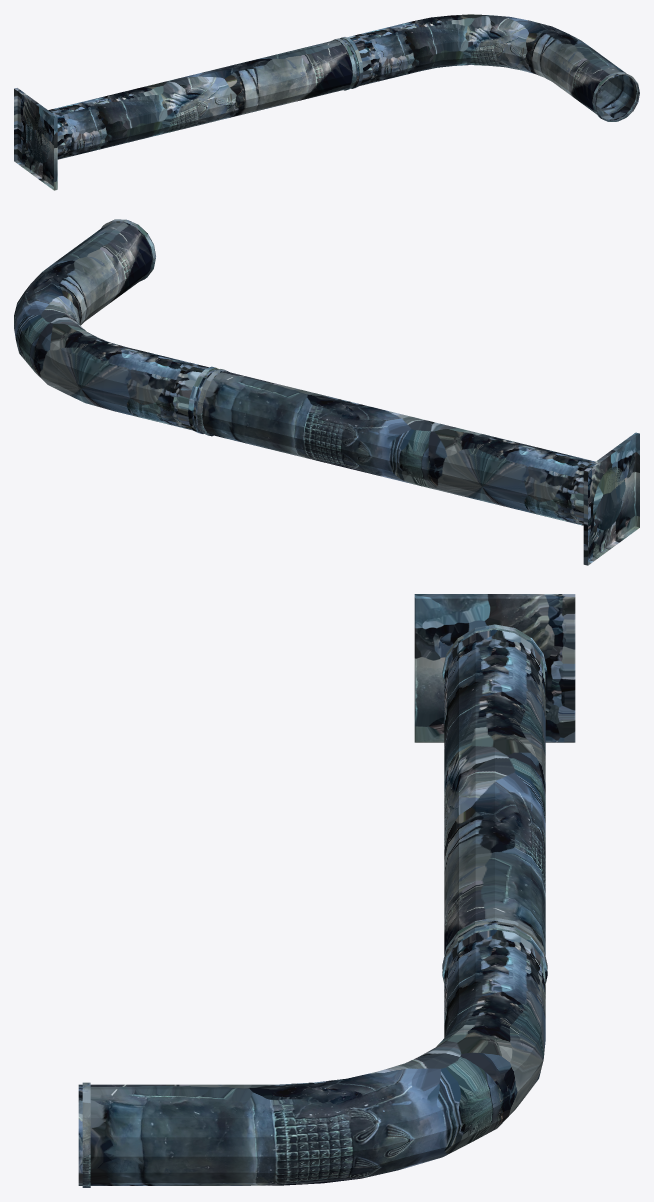
The model's file is futuristic_room_7.obj.
The picture shows the model from 3 angles, top to bottom: view 1: azimuth 30°, elevation 25°; view 2: azimuth 150°, elevation 25°; view 3: azimuth 270°, elevation 25°; orthographic projection. The views are drawn at different scales.
Bounding box in the file's own units: 2.84 × 0.3926 × 1.21.
